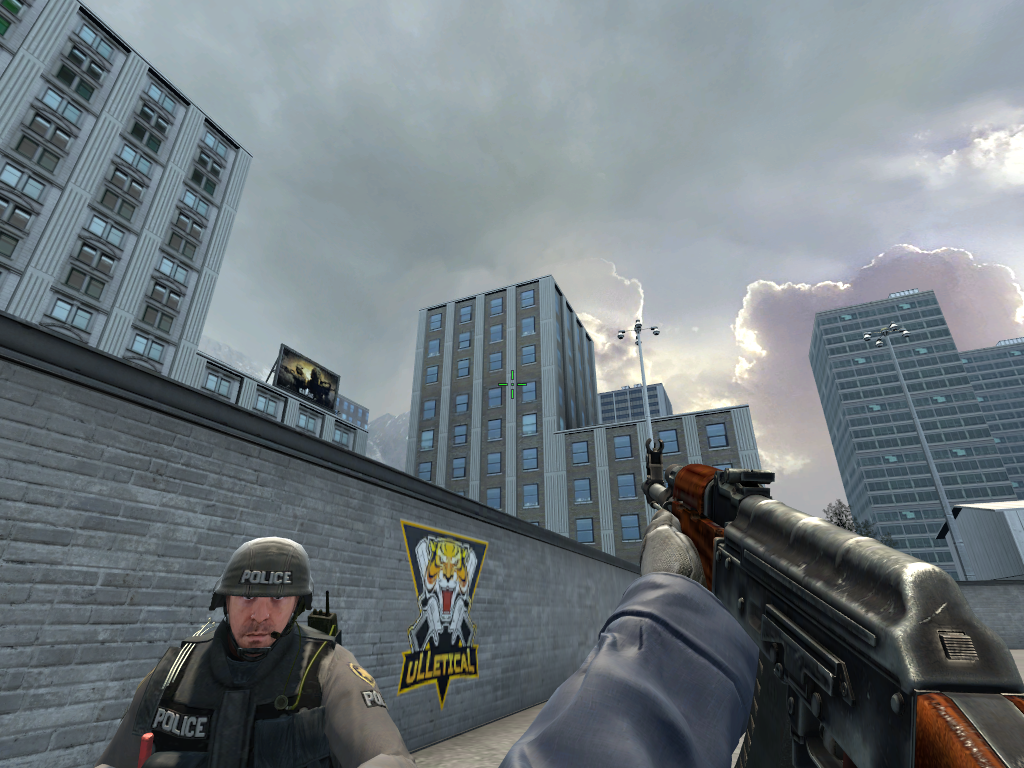ct head: (206, 533, 317, 655)
